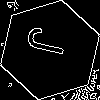J: (25, 25, 77, 60)
